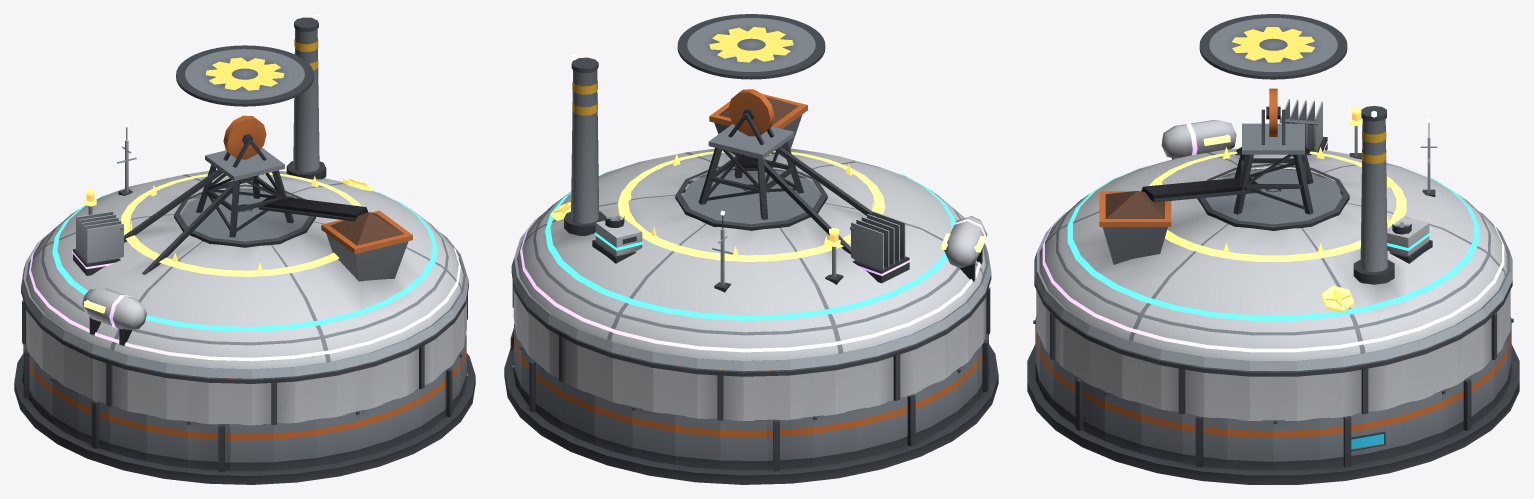
Rendered from mine_s.glb.
The picture shows the model from 3 angles, left to right: view 1: azimuth 30°, elevation 25°; view 2: azimuth 150°, elevation 25°; view 3: azimuth 270°, elevation 25°; orthographic projection. The views are drawn at different scales.
Visible parts, largest first — view 1: Roof, Base, L4, L5, L3, Wall_20, Wall_21, Upper_21, Wall_22, Upper_20, Wall_19, Upper_22 (+22 smaller); view 2: Roof, Base, L4, L3, L5, Wall_10, Wall_11, Wall_09, Upper_10, Upper_11, Wall_12, Upper_09 (+22 smaller); view 3: Roof, Base, L4, L3, L5, Wall_00, Wall_31, Upper_00, Upper_31, Upper_01, Upper_30, Wall_30 (+21 smaller).
Boxes of the visible parts, left/top/right/bottom form: Roof: left=21, top=14, right=468, bottom=379; Base: left=14, top=353, right=475, bottom=484; L4: left=29, top=211, right=460, bottom=361; L5: left=84, top=172, right=372, bottom=276; L3: left=52, top=148, right=437, bottom=331; Wall_20: left=187, top=421, right=230, bottom=472; Wall_21: left=230, top=423, right=273, bottom=471; Upper_21: left=230, top=379, right=274, bottom=425; Wall_22: left=274, top=419, right=316, bottom=470; Upper_20: left=187, top=376, right=230, bottom=424; Wall_19: left=146, top=414, right=187, bottom=467; Upper_22: left=274, top=374, right=316, bottom=424; Roof: left=511, top=14, right=991, bottom=372; Base: left=504, top=344, right=998, bottom=484; L4: left=520, top=211, right=987, bottom=352; L3: left=545, top=169, right=955, bottom=320; L5: left=550, top=150, right=885, bottom=284; Wall_10: left=720, top=419, right=766, bottom=470; Wall_11: left=767, top=416, right=812, bottom=471; Wall_09: left=675, top=414, right=720, bottom=469; Upper_10: left=720, top=371, right=766, bottom=420; Upper_11: left=767, top=369, right=813, bottom=419; Wall_12: left=813, top=410, right=856, bottom=466; Upper_09: left=674, top=367, right=720, bottom=420; Roof: left=1034, top=14, right=1512, bottom=372; Base: left=1027, top=344, right=1519, bottom=484; L4: left=1042, top=99, right=1504, bottom=352; L3: left=1067, top=165, right=1479, bottom=320; L5: left=1149, top=107, right=1406, bottom=312; Wall_00: left=1273, top=418, right=1319, bottom=470; Wall_31: left=1227, top=418, right=1273, bottom=470; Upper_00: left=1273, top=370, right=1319, bottom=420; Upper_31: left=1227, top=370, right=1273, bottom=420; Upper_01: left=1319, top=365, right=1365, bottom=418; Upper_30: left=1181, top=365, right=1227, bottom=418; Wall_30: left=1182, top=413, right=1226, bottom=468.
Bounding box in the file's own units: 11.74 × 8.84 × 11.74.
